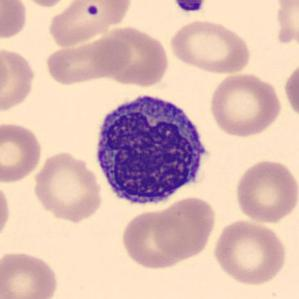Monocyte: (88, 86, 215, 212)
Platelets: (171, 0, 208, 14), (84, 3, 102, 18)
RBC: (31, 149, 104, 223), (211, 218, 289, 286), (207, 71, 284, 138), (96, 23, 171, 89), (168, 17, 253, 75), (43, 33, 132, 87), (232, 157, 298, 225), (119, 207, 190, 270), (151, 195, 218, 261), (46, 0, 132, 49), (0, 248, 60, 299), (0, 120, 44, 185), (0, 44, 37, 115), (274, 0, 299, 53), (0, 0, 29, 43), (282, 59, 299, 121), (0, 178, 13, 244), (0, 44, 12, 100), (14, 0, 80, 8)
